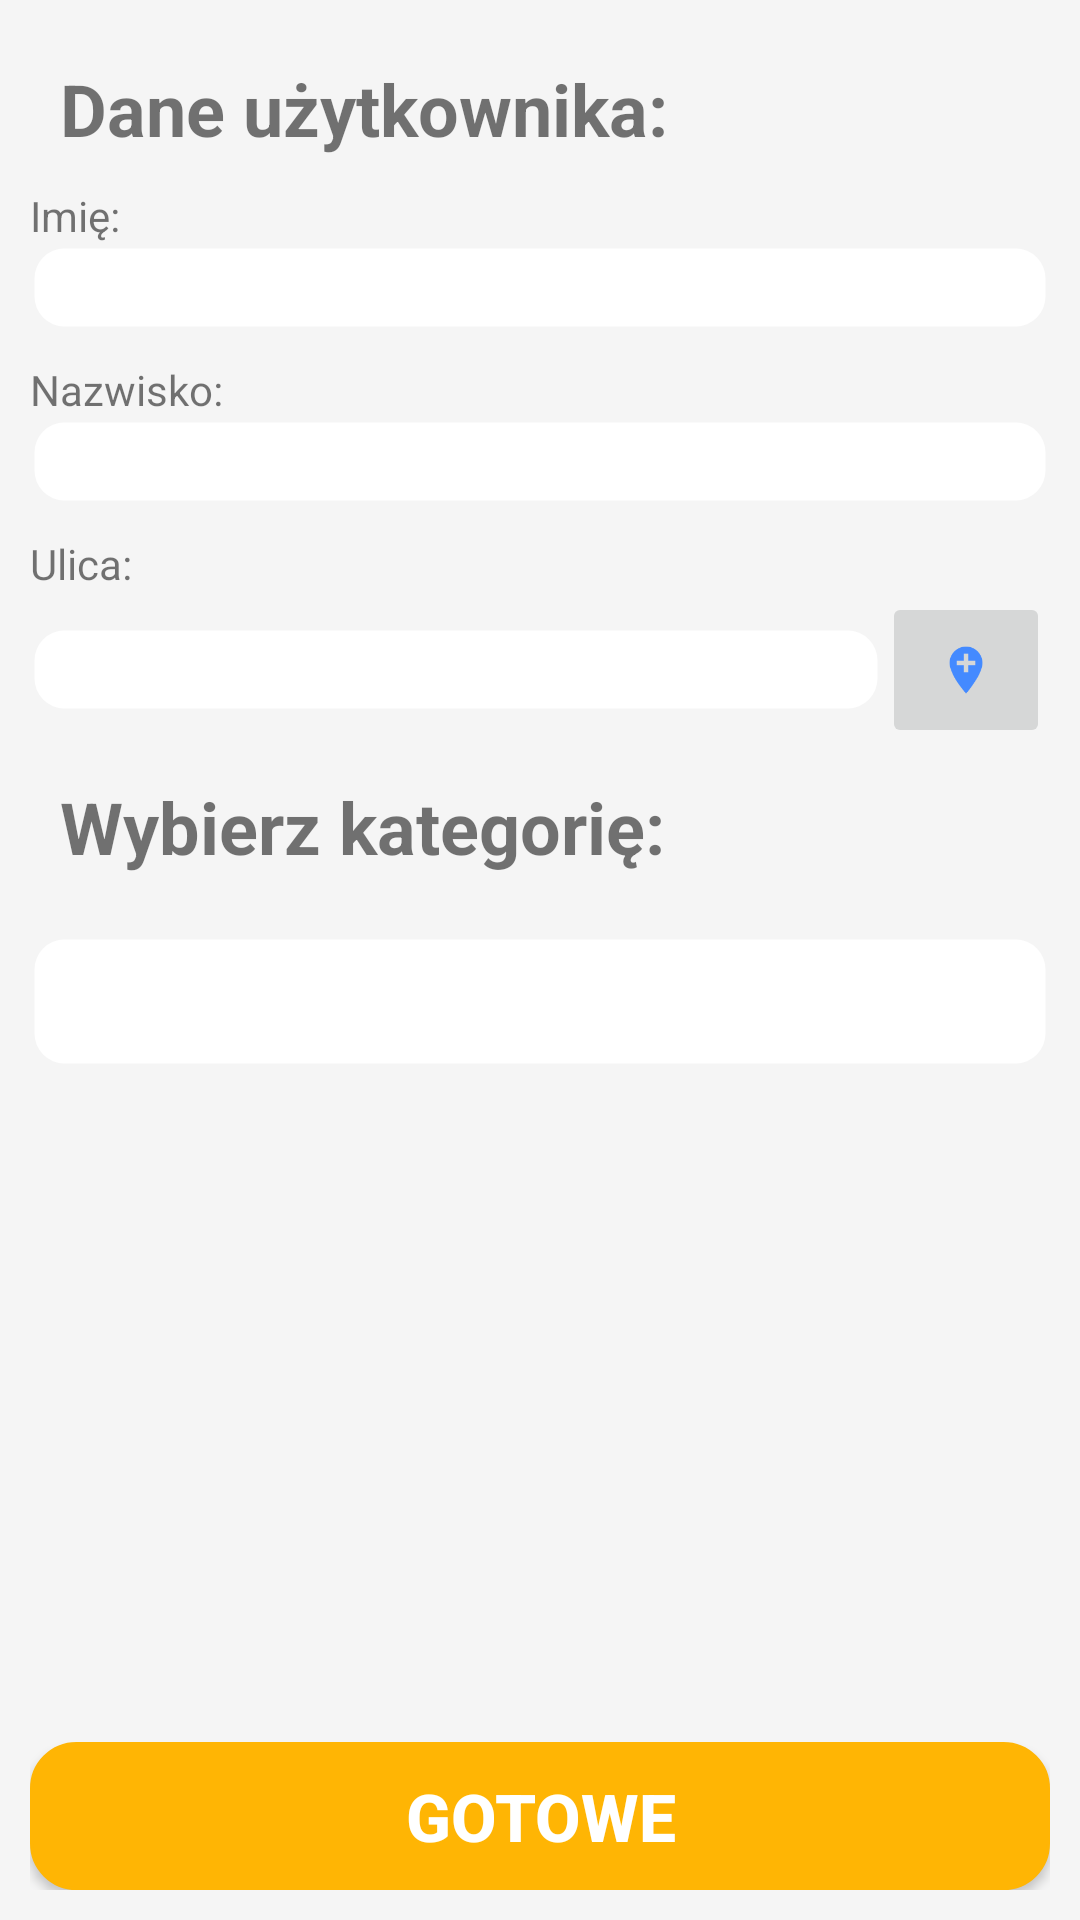

Named icons in this screenshot (1080x1920) and their bounding boxes, (x1=x1, y1=y1, x2=x2, y2=y2):
add location: (x1=894, y1=610, x2=1038, y2=730)
